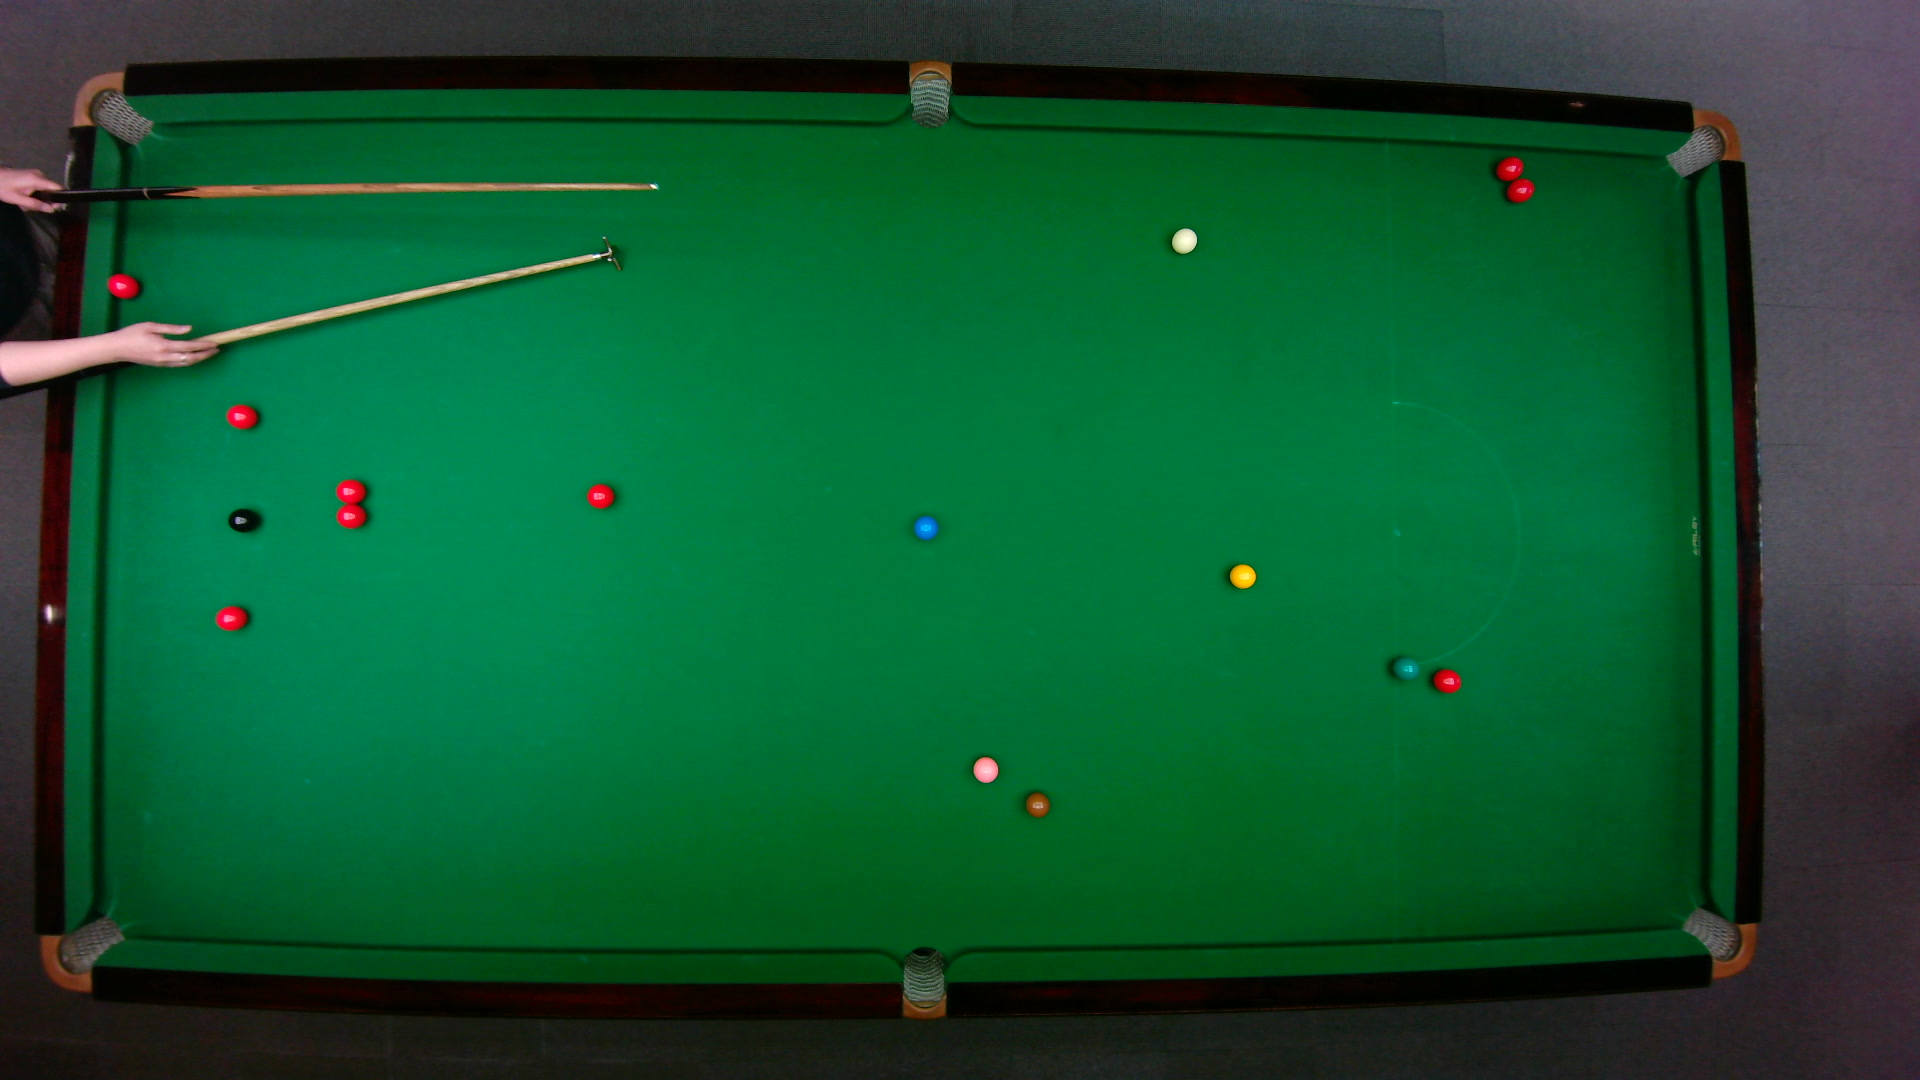bag: (37, 913, 129, 992), (70, 71, 156, 146), (1680, 906, 1759, 980), (1664, 108, 1741, 179), (901, 945, 948, 1021), (909, 59, 953, 131)
black: (225, 506, 261, 534)
blue: (911, 513, 938, 541)
brown: (1025, 791, 1051, 818)
cue: (29, 179, 659, 204)
green: (1390, 654, 1422, 682)
pink: (971, 756, 1001, 785)
red: (104, 272, 142, 301), (214, 604, 251, 633), (224, 402, 260, 431), (1493, 156, 1527, 185), (1505, 177, 1538, 204), (334, 477, 368, 504), (1429, 669, 1464, 695), (334, 504, 368, 530), (585, 483, 617, 510)
white: (1170, 225, 1199, 255)
yellow: (1226, 562, 1258, 591)
zone: (1389, 400, 1519, 669)
